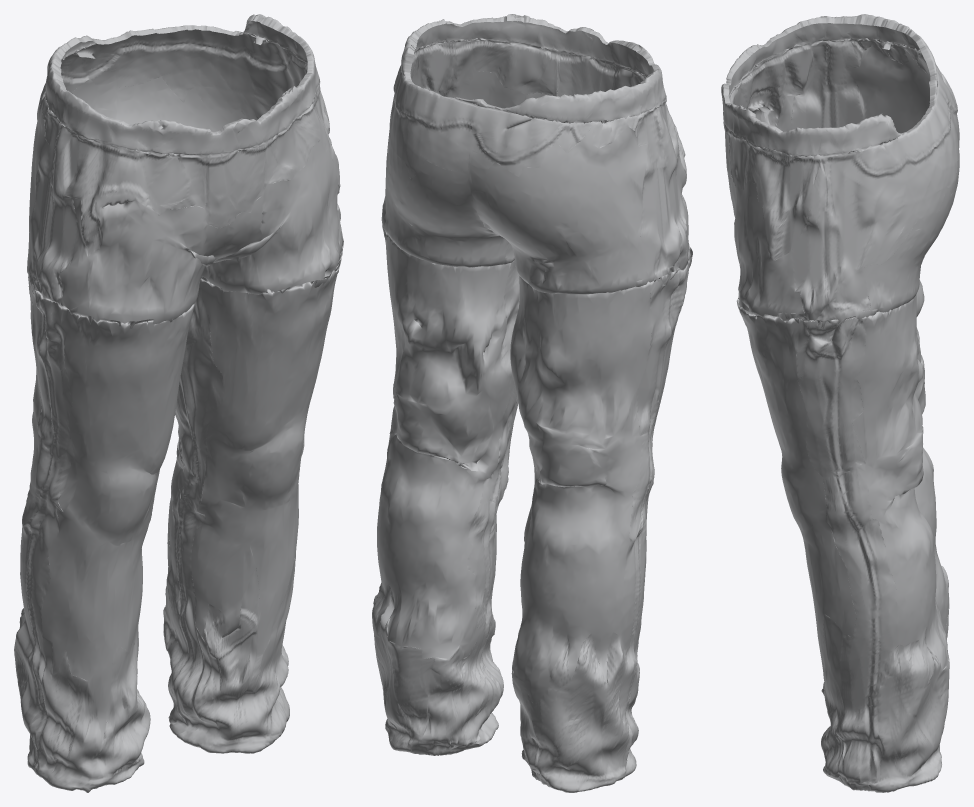
The model's file is bottom_sweats.glb.
3 renders of one model, left to right at view 1: azimuth 30°, elevation 25°; view 2: azimuth 150°, elevation 25°; view 3: azimuth 270°, elevation 25°, orthographic. The views are drawn at different scales.
Parts seen in each view (by area): view 1: bottom_sweats; view 2: bottom_sweats; view 3: bottom_sweats.
Part boxes in pixels (box(x1,y1,x2,y2)): bottom_sweats: box(14, 14, 343, 792); bottom_sweats: box(372, 14, 692, 792); bottom_sweats: box(721, 14, 959, 792).
Size of the model in its own units: 0.3665 by 0.8353 by 0.266.
Materials: 1 (1 with a texture image).
